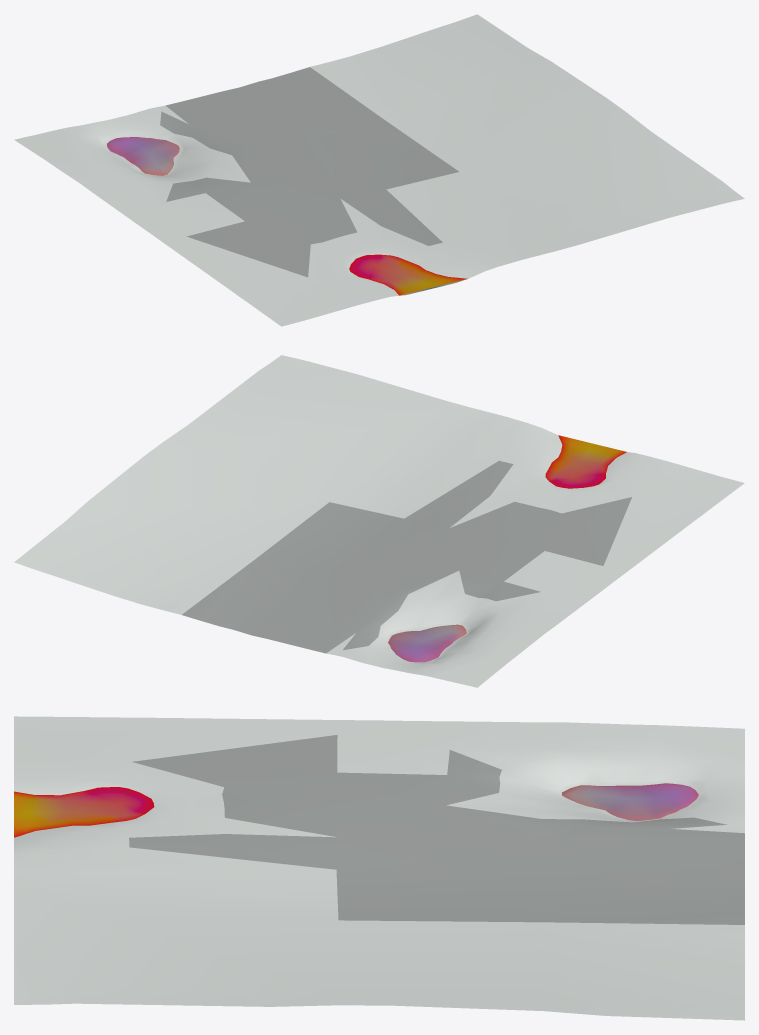
3 renders of one model, top to bottom at view 1: azimuth 30°, elevation 25°; view 2: azimuth 150°, elevation 25°; view 3: azimuth 270°, elevation 25°, orthographic. The views are drawn at different scales.
Visible parts, largest first — view 1: G:\FFXIV-MapTools\exports\r2f1\bg\ex1\01_roc_r2\fld\r2f1\bgp (×4); view 2: G:\FFXIV-MapTools\exports\r2f1\bg\ex1\01_roc_r2\fld\r2f1\bgp (×4); view 3: G:\FFXIV-MapTools\exports\r2f1\bg\ex1\01_roc_r2\fld\r2f1\bgp (×4).
Part boxes in pixels (left/top/right/bottom): G:\FFXIV-MapTools\exports\r2f1\bg\ex1\01_roc_r2\fld\r2f1\bgp (×4): left=14, top=14, right=744, bottom=326; G:\FFXIV-MapTools\exports\r2f1\bg\ex1\01_roc_r2\fld\r2f1\bgp (×4): left=14, top=355, right=744, bottom=687; G:\FFXIV-MapTools\exports\r2f1\bg\ex1\01_roc_r2\fld\r2f1\bgp (×4): left=14, top=716, right=744, bottom=1020.
Bounding box in the file's own units: 128 × 8.38 × 128.
